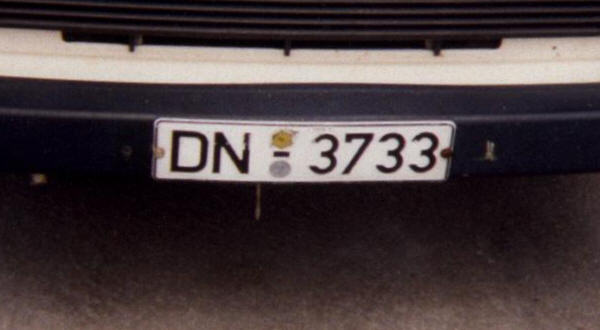license_plate: (151, 117, 455, 182)
